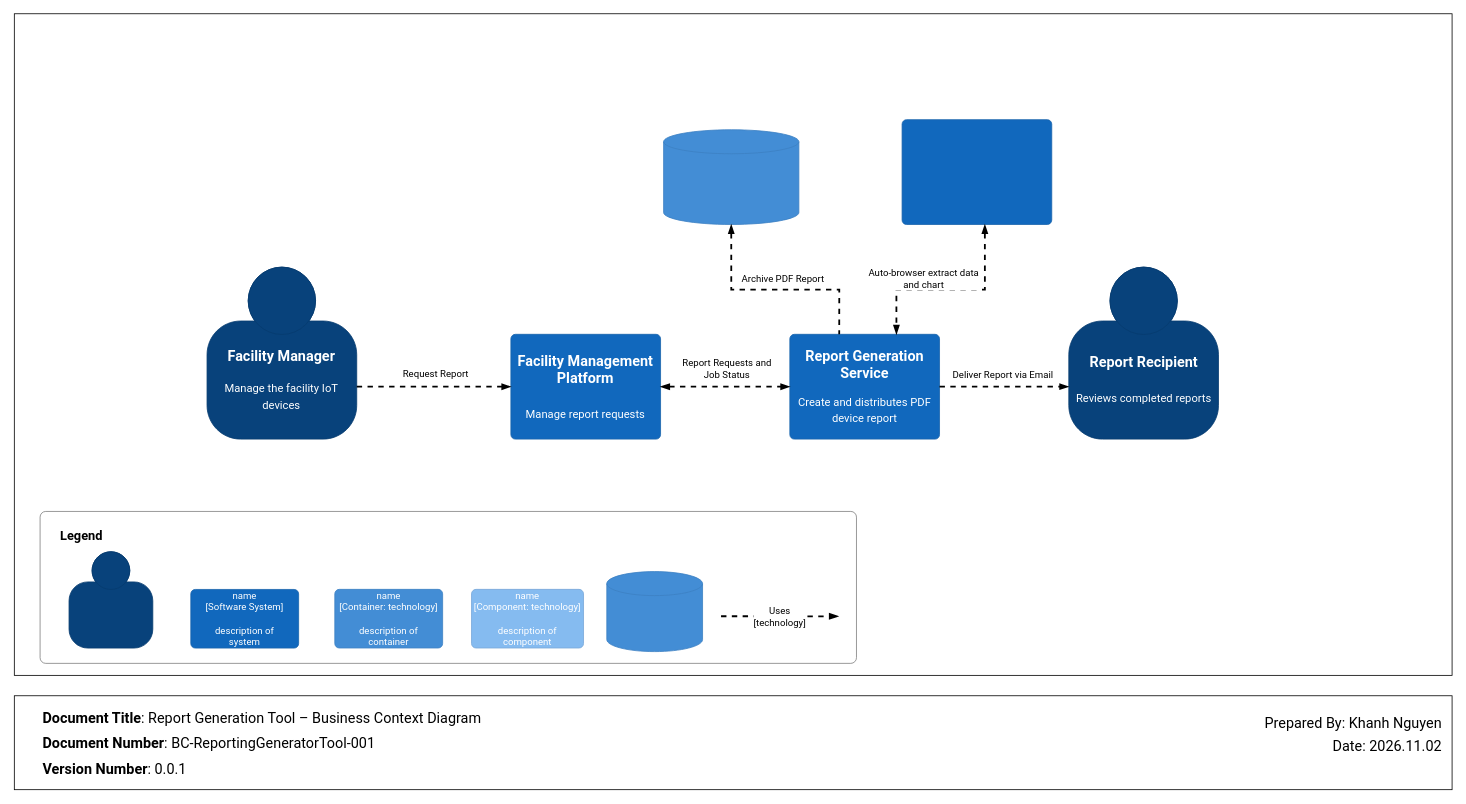
Image size: 1466x804. Some labels were removed from this diagram. Here are the shapes that lost their labels. From the top down, the centre of each, then its label:
the point at 731,176: Report Archive Store generated PDF reports
the point at 976,171: IoT Management Platform Manage IoT device
the point at 110,599: name [Person] description of the person
the point at 654,611: name [Container: technology] description of database
